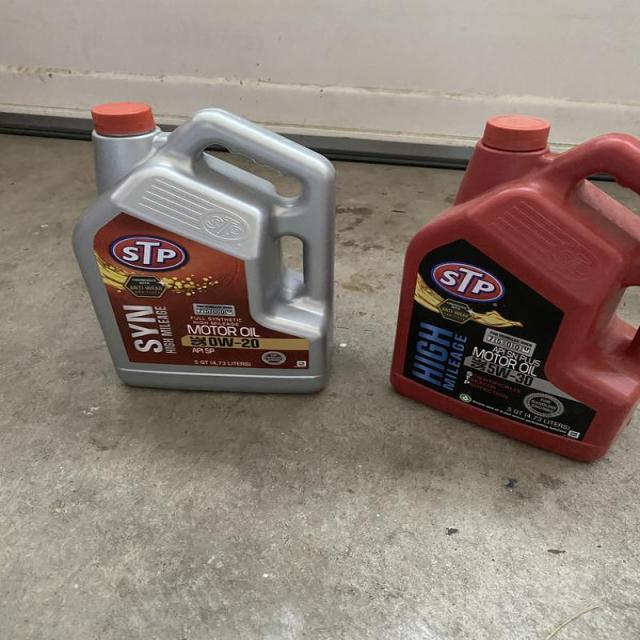motor_oil: (402, 99, 640, 471), (77, 98, 347, 404)
